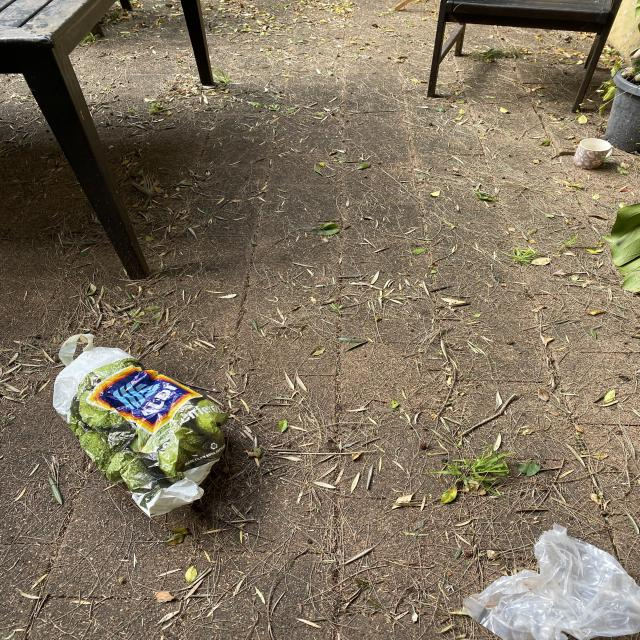bag: (55, 330, 233, 519)
cloth: (470, 525, 640, 640)
container: (597, 65, 640, 159)
cup: (576, 136, 610, 170)
